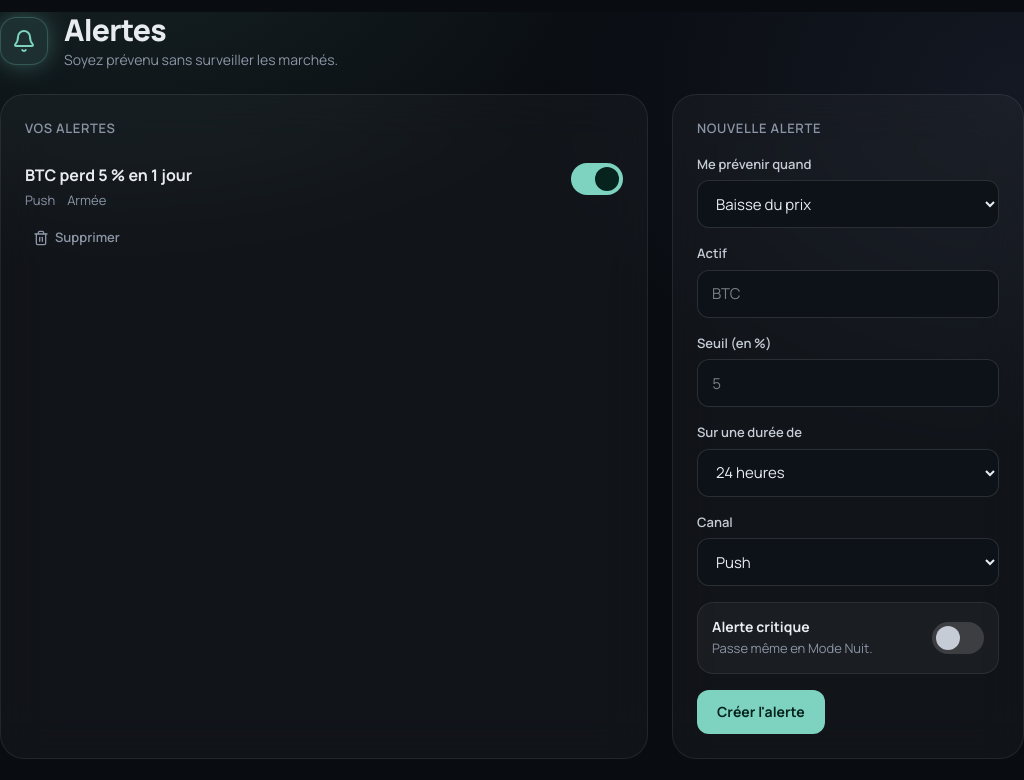
Test: AlertsPage : activer, mettre en pause, supprimer › si l'API refuse : retour arrière et message
This screenshot has width=1024, height=780.
Expected: the heading "Vos alertes" is shown, left=25, top=119, right=116, bottom=137
Click the switch named "BTC perd 5 % en 1 jour" in the row of "BTC perd 5 % en 1 jour": point(597, 178) left=571, top=162, right=623, bottom=194
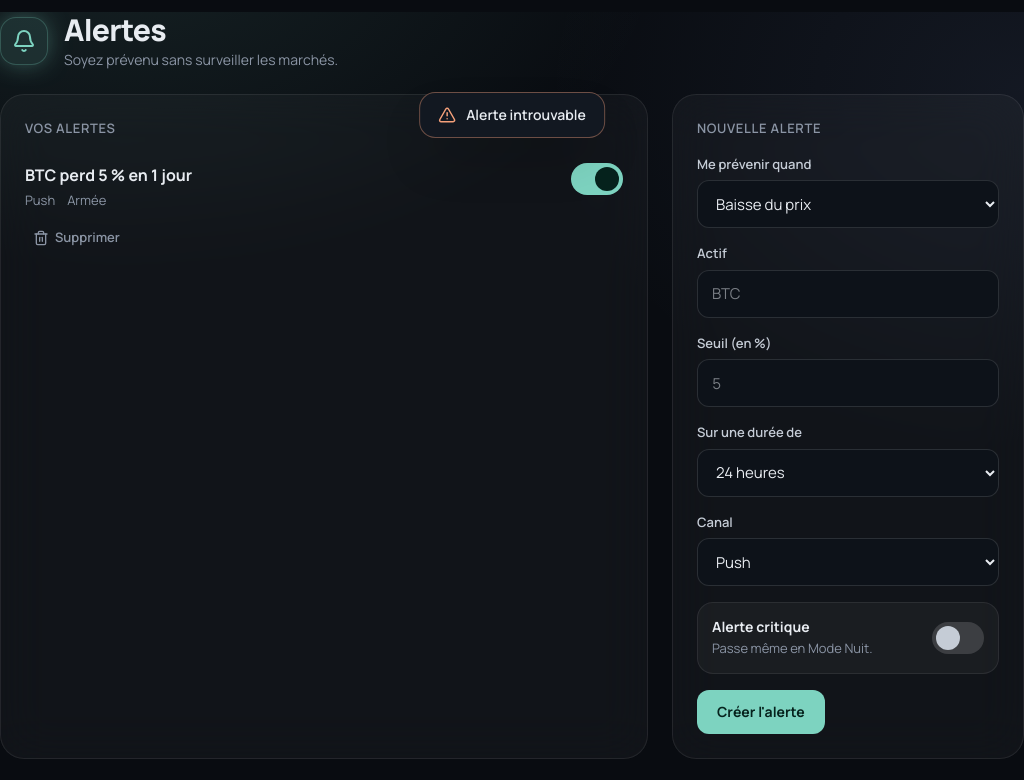
Now the message reads "Alerte introuvable", box left=466, top=105, right=586, bottom=124
